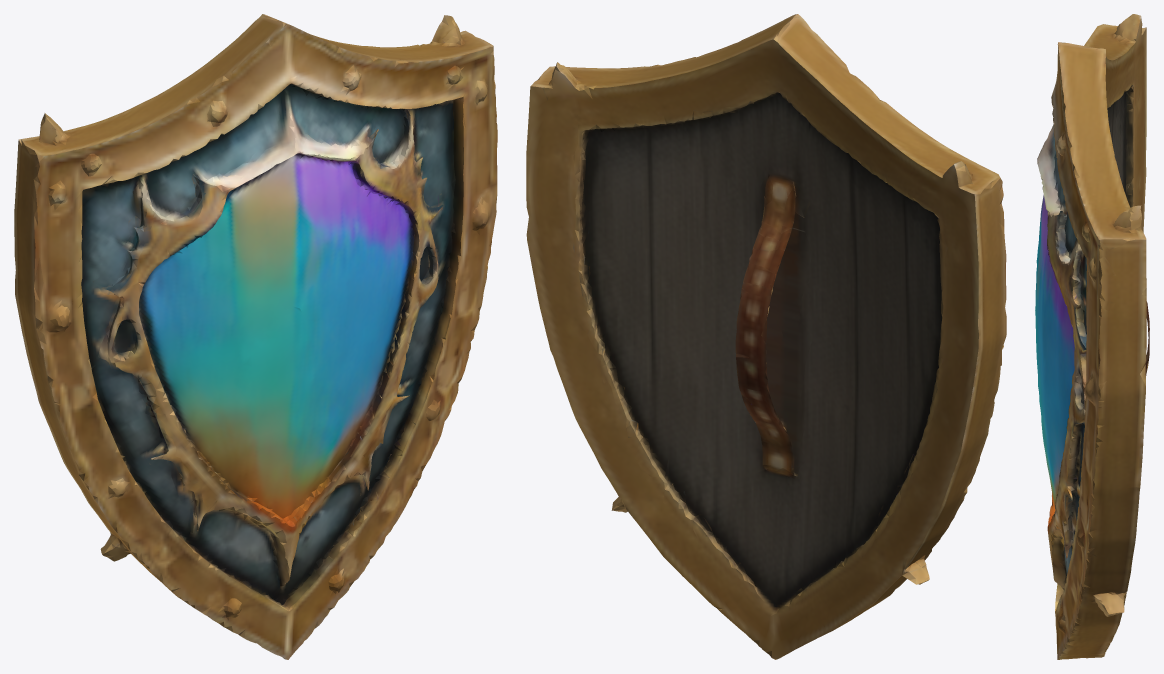
3 renders of one model, left to right at view 1: azimuth 30°, elevation 25°; view 2: azimuth 150°, elevation 25°; view 3: azimuth 270°, elevation 25°, orthographic. The views are drawn at different scales.
Visible parts, largest first — view 1: BeetleShellShield; view 2: BeetleShellShield; view 3: BeetleShellShield.
Boxes of the visible parts, x1,y1,x2,y2 form: BeetleShellShield: [14, 14, 497, 659]; BeetleShellShield: [526, 14, 1006, 659]; BeetleShellShield: [1035, 14, 1149, 659].
Size of the model in its own units: 1.45 by 1.9 by 0.3197.
1 material, 1 textured.
